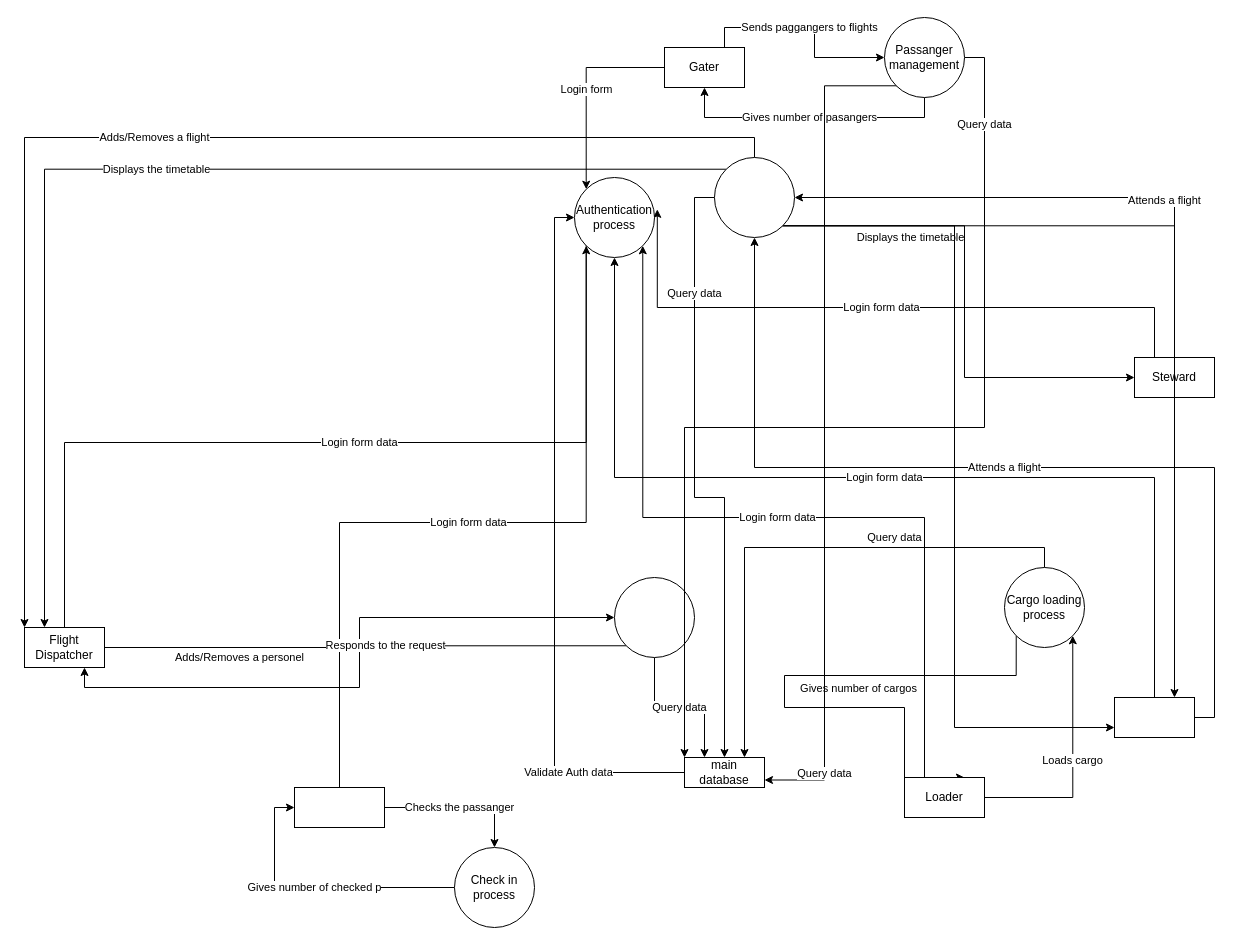
The diagram is 1240 pixels wide and 945 high, and some of its shapes have lost their labels. Each missing label, with the centre of its shape:
Checkiner: point (339, 807)
Flight Management: point (754, 197)
Pilot: point (1154, 717)
Staff management: point (654, 617)
